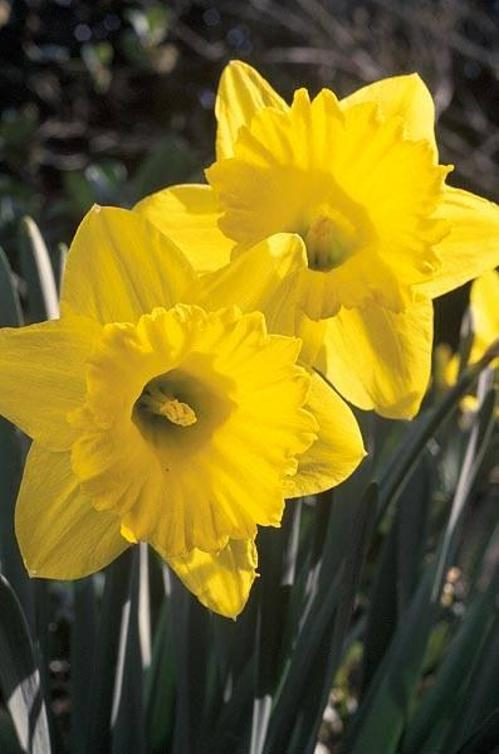flower1: (4, 204, 369, 619), (132, 62, 499, 420)
